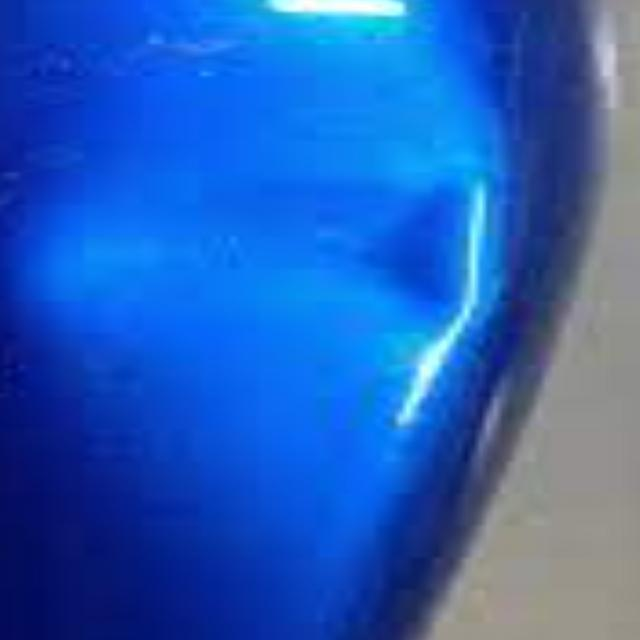dents: (219, 143, 591, 443)
